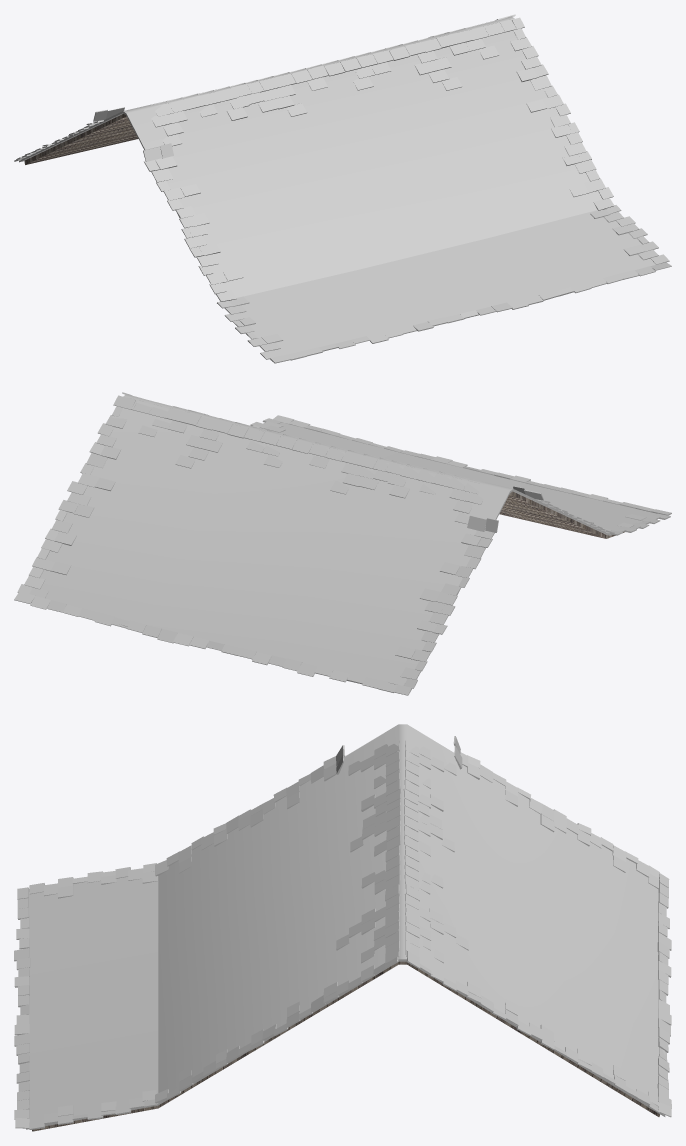
Rendered from cabinRoof_01_LOD0.FBX.
The picture shows the model from 3 angles, top to bottom: view 1: azimuth 30°, elevation 25°; view 2: azimuth 150°, elevation 25°; view 3: azimuth 270°, elevation 25°; orthographic projection. The views are drawn at different scales.
Visible parts, largest first — view 1: cabinRoof_01_LOD0; view 2: cabinRoof_01_LOD0; view 3: cabinRoof_01_LOD0.
Part boxes in pixels (x1,y1,x2,y2): cabinRoof_01_LOD0: (14,14,671,363); cabinRoof_01_LOD0: (14,392,671,695); cabinRoof_01_LOD0: (14,724,671,1131).
Size of the model in its own units: 48.42 by 16.3 by 54.75.
